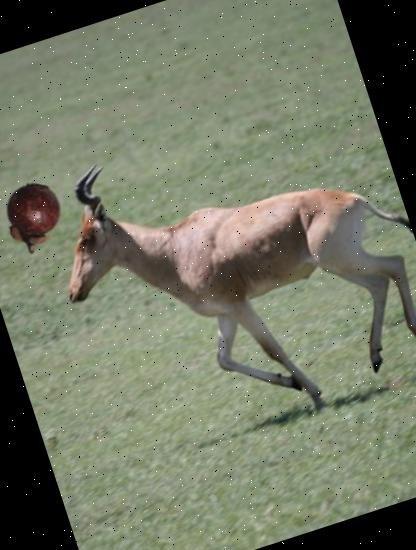Mangostan: (0, 173, 77, 262)
